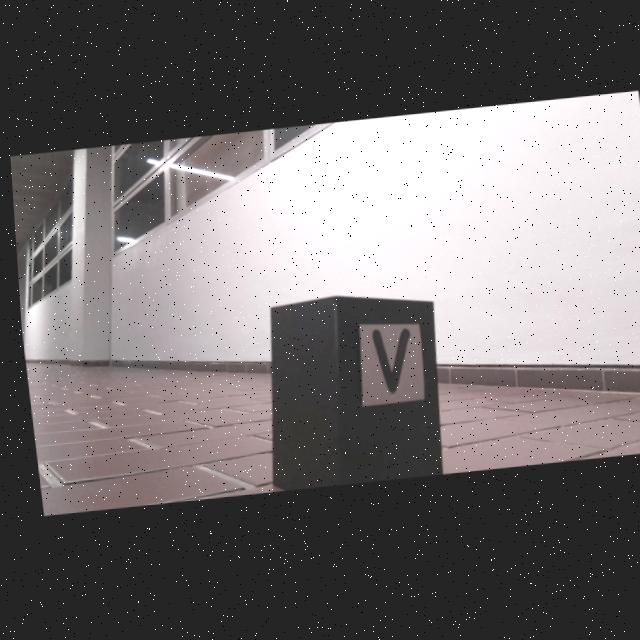V: (368, 334, 406, 397)
